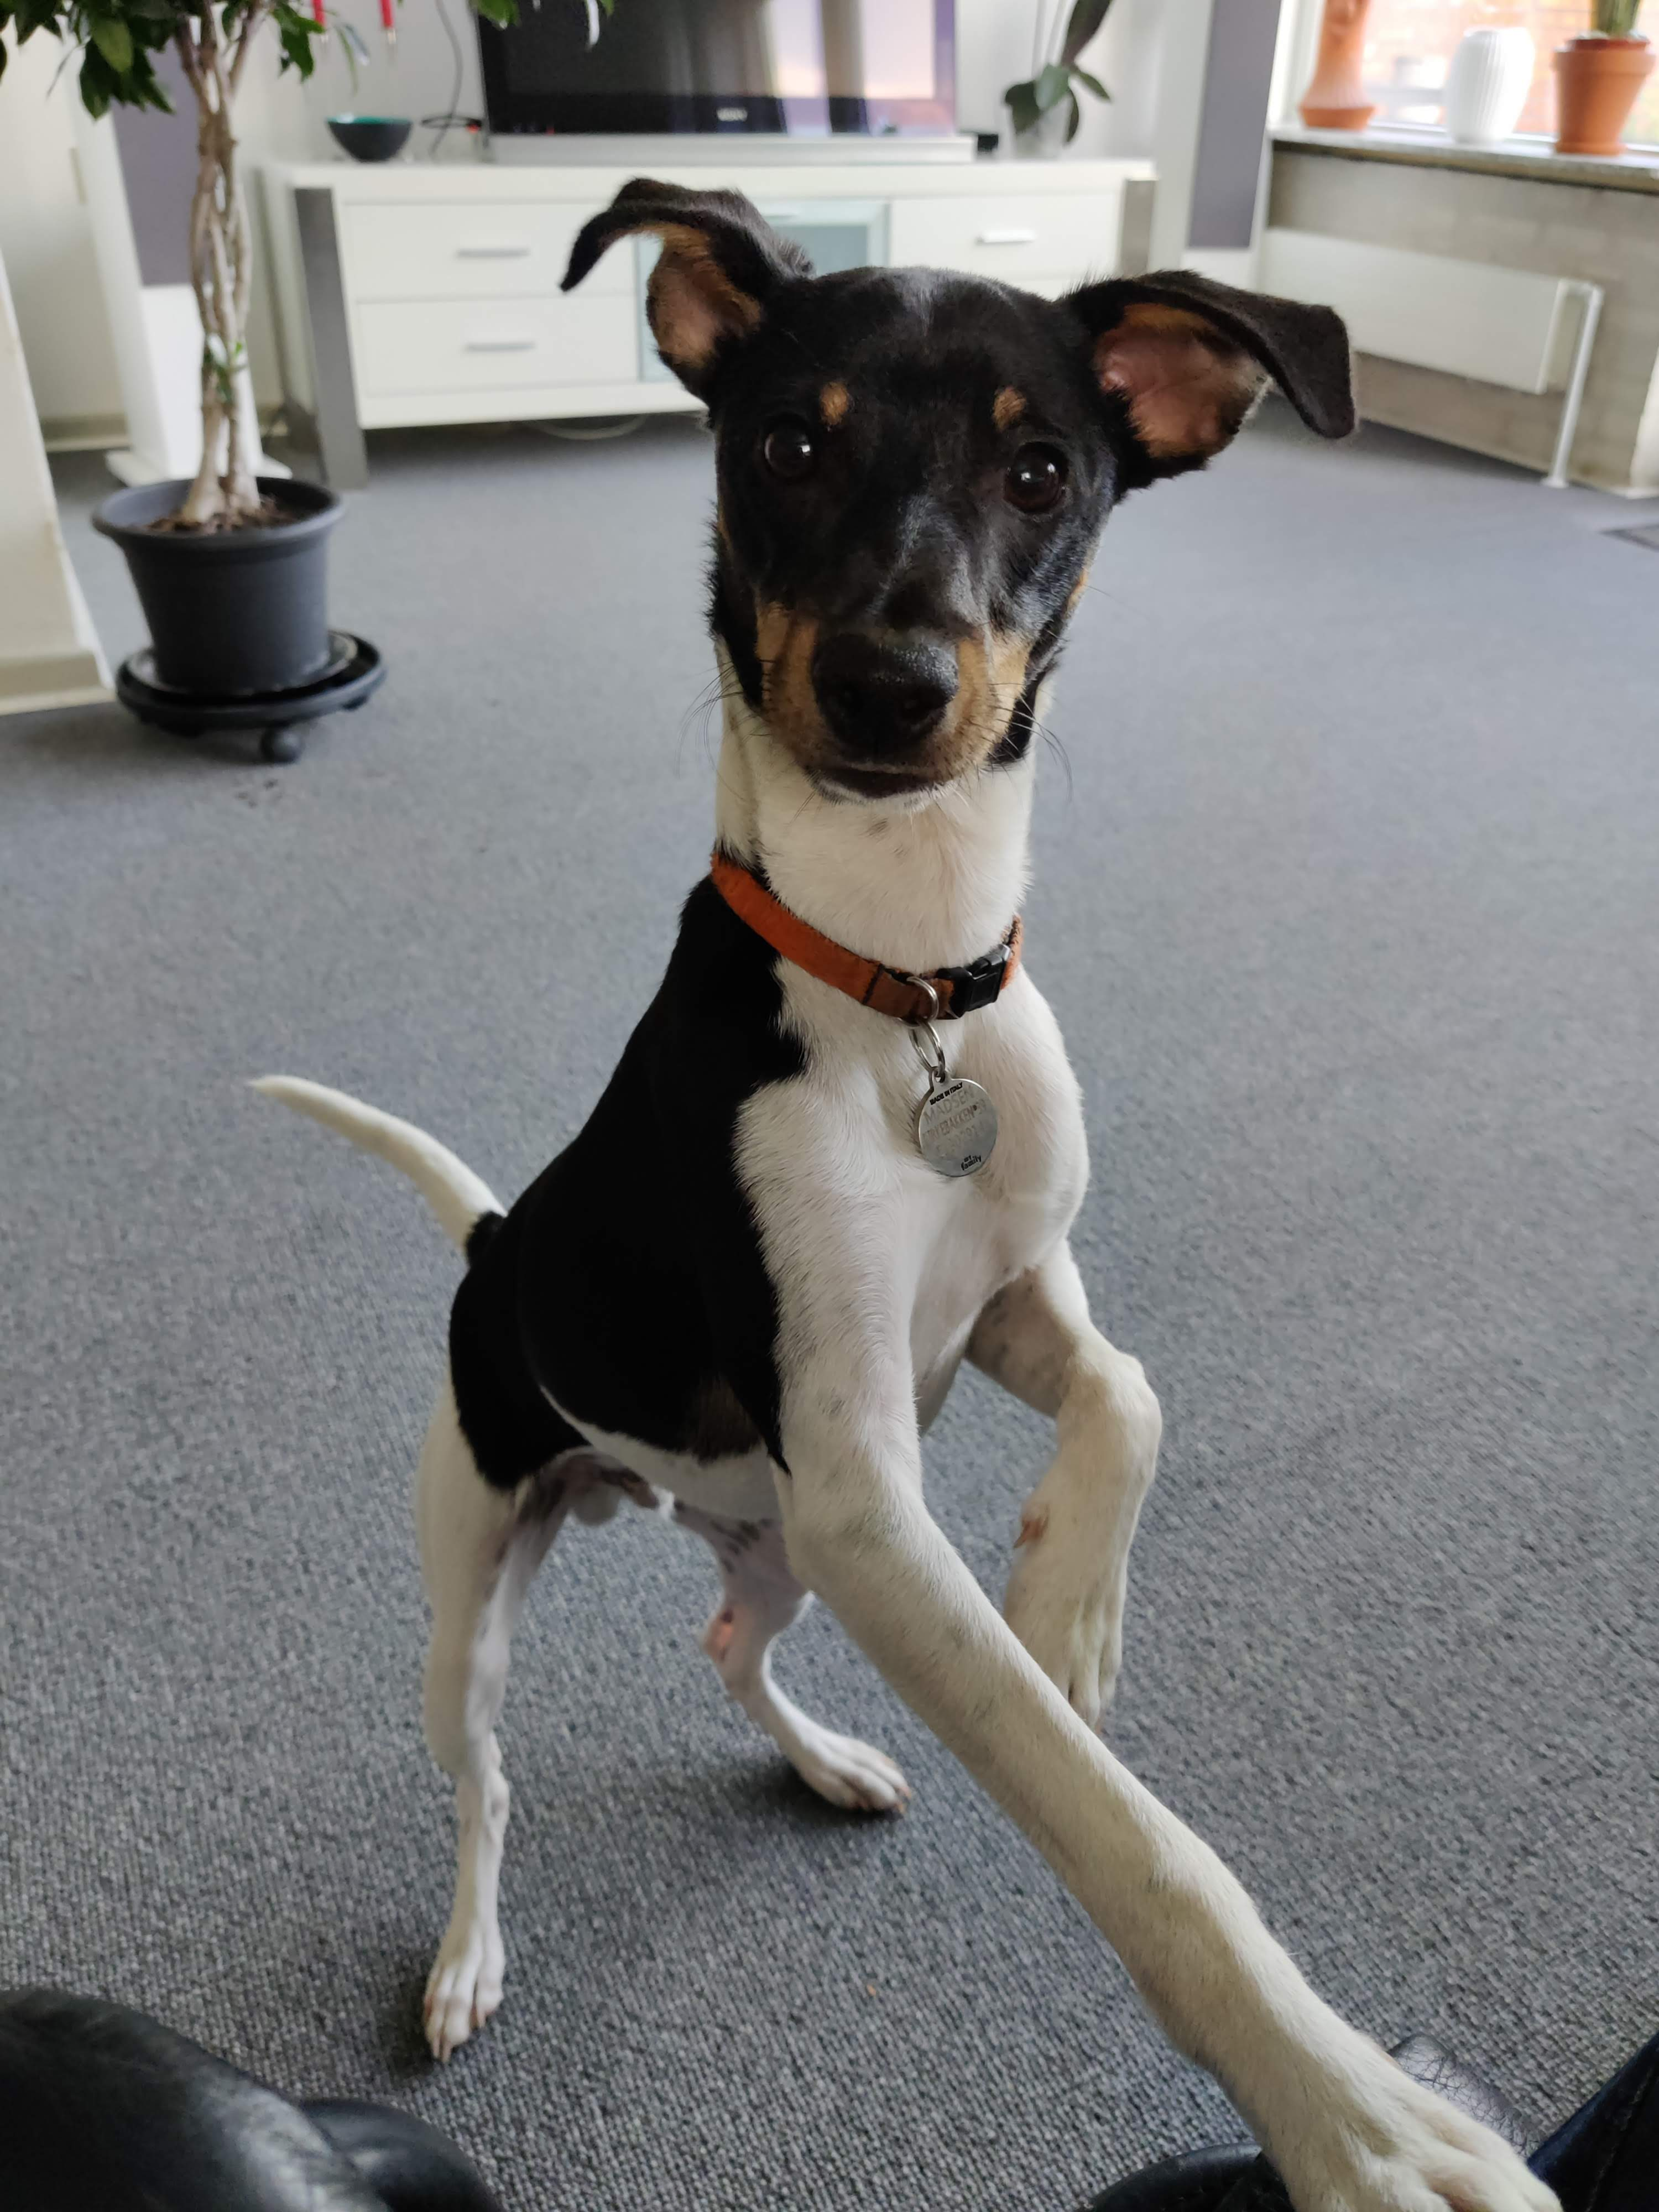Dog: (234, 169, 1584, 2212)
